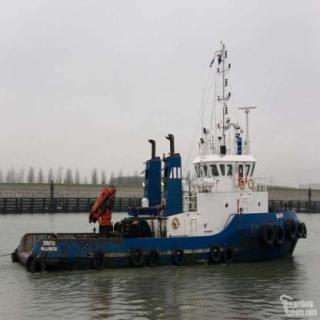Tug Boat: (8, 40, 309, 268)
